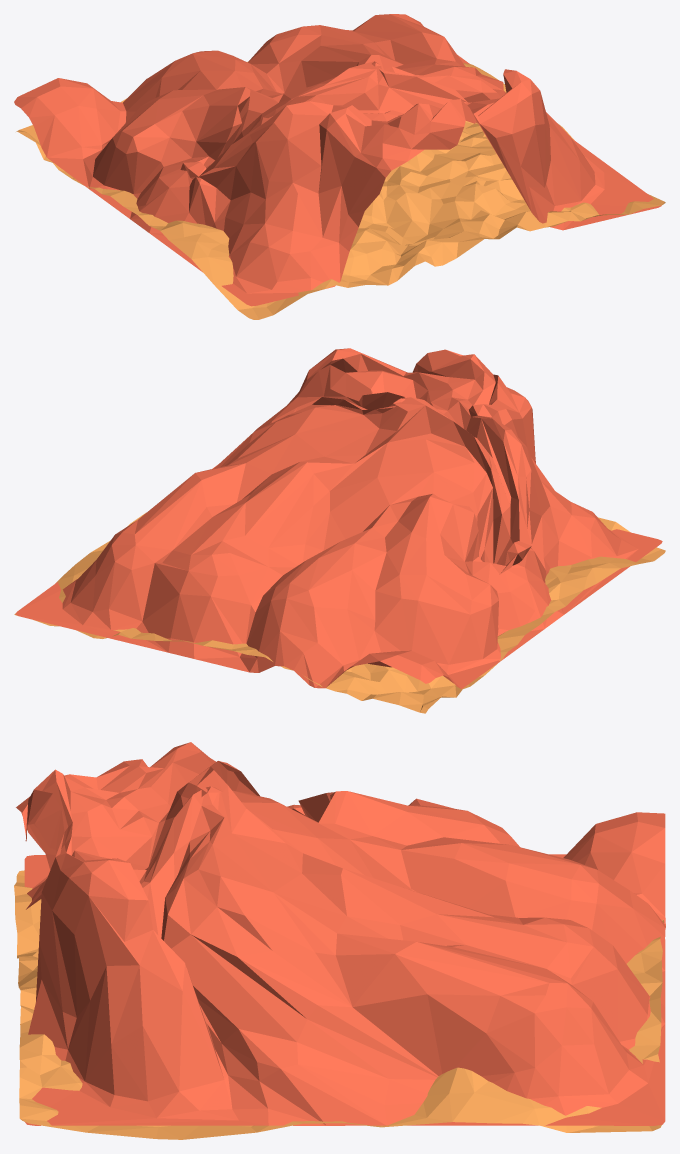
Rendered from cave.gltf.
The picture shows the model from 3 angles, top to bottom: view 1: azimuth 30°, elevation 25°; view 2: azimuth 150°, elevation 25°; view 3: azimuth 270°, elevation 25°; orthographic projection. The views are drawn at different scales.
Visible parts, largest first — view 1: Plane, Plane.001; view 2: Plane, Plane.001; view 3: Plane, Plane.001.
Part boxes in pixels (bbox=[...]): Plane: bbox=[14, 14, 661, 306]; Plane.001: bbox=[16, 61, 665, 319]; Plane: bbox=[15, 348, 662, 688]; Plane.001: bbox=[14, 513, 665, 713]; Plane: bbox=[16, 742, 665, 1125]; Plane.001: bbox=[14, 870, 664, 1139].
Size of the model in its own units: 16.44 by 6.06 by 16.32.
